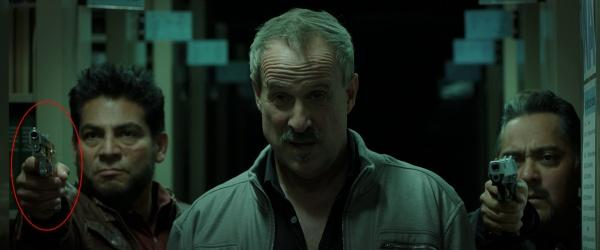Gun: (28, 129, 60, 182), (488, 157, 520, 203)
